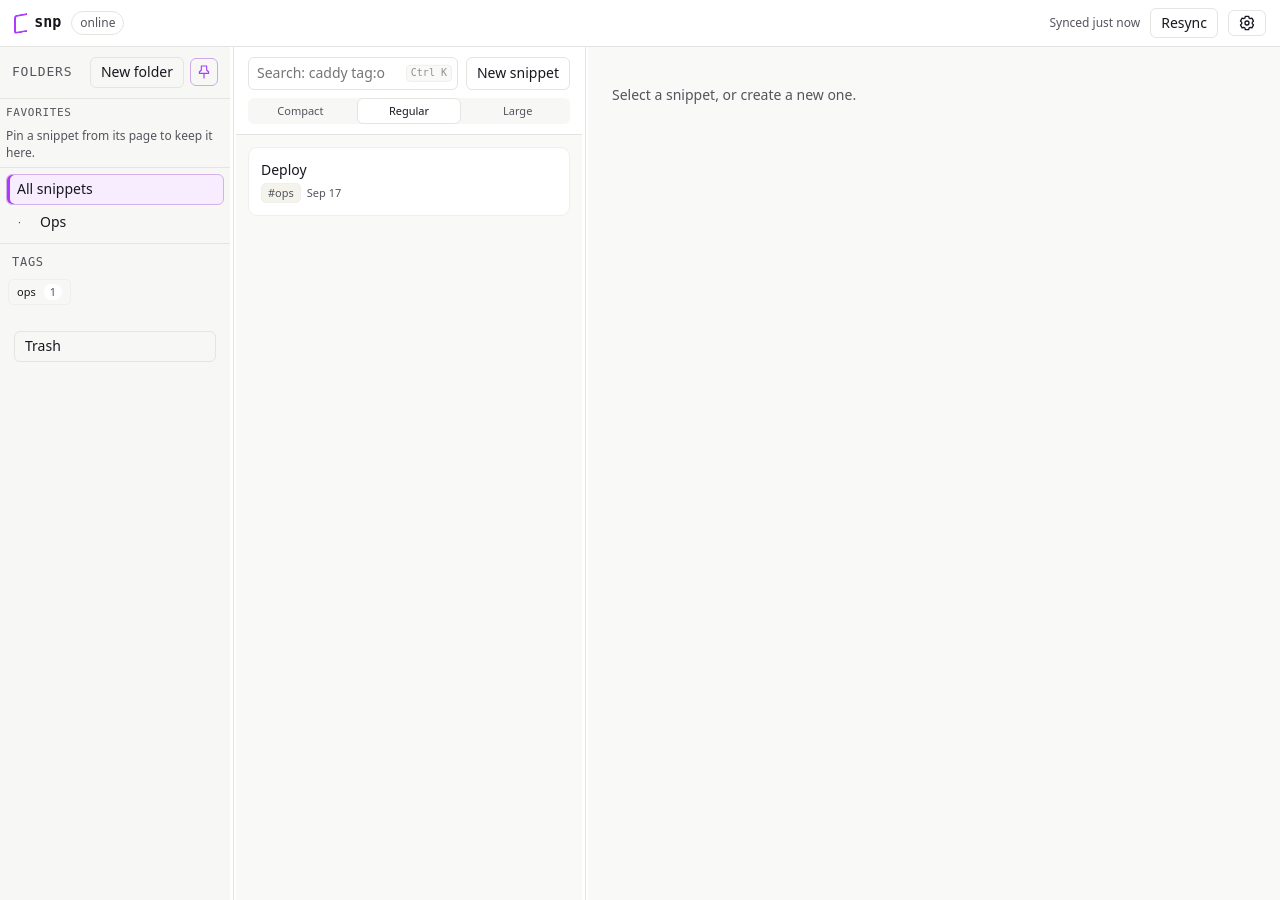
Test: folder assignments › preserves null when editing with a folder filter and shows the saved unfiled result
Click the text "Deploy": (284, 170) [261,160,307,180]
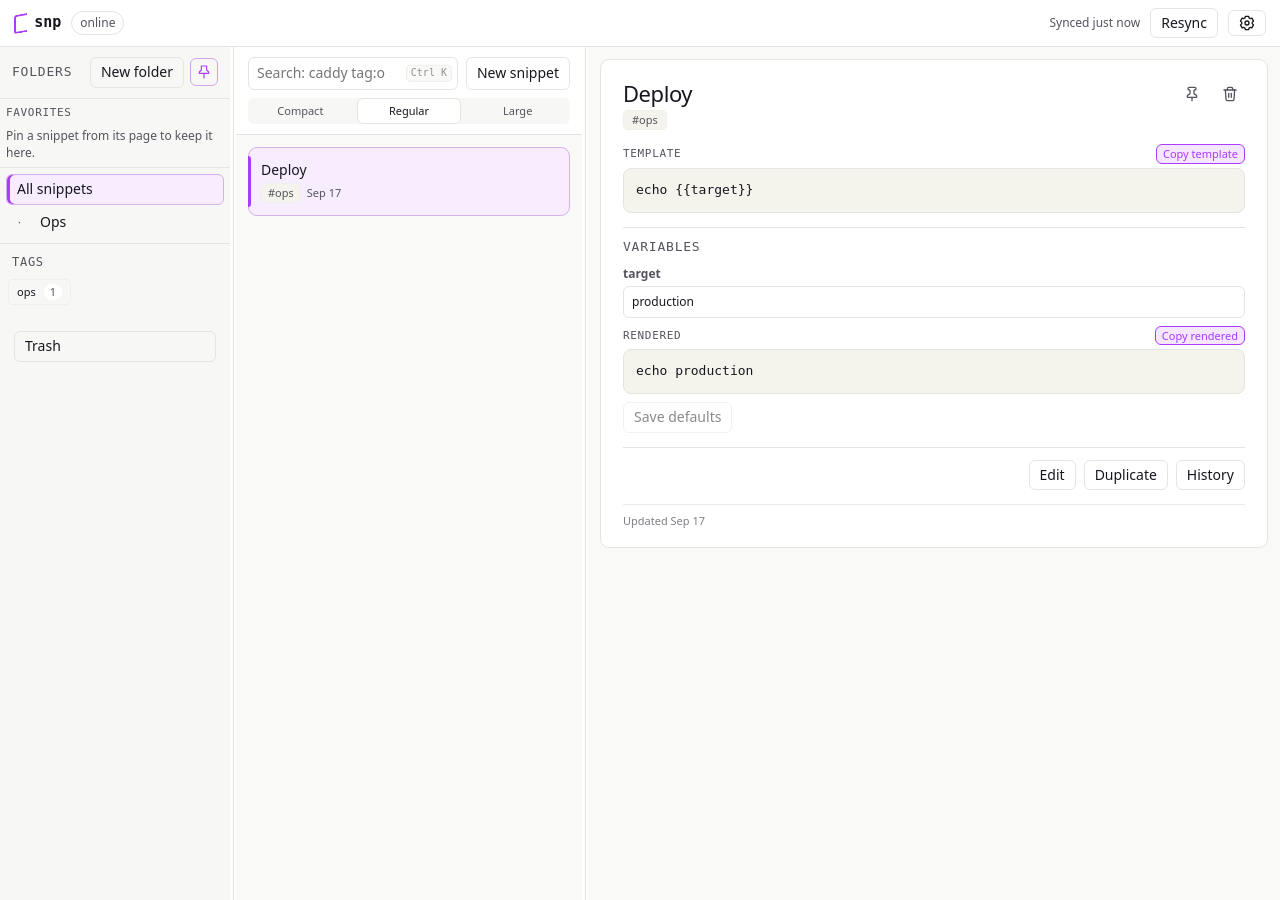
Click the button "Ops": (126, 222) [29,207,224,237]
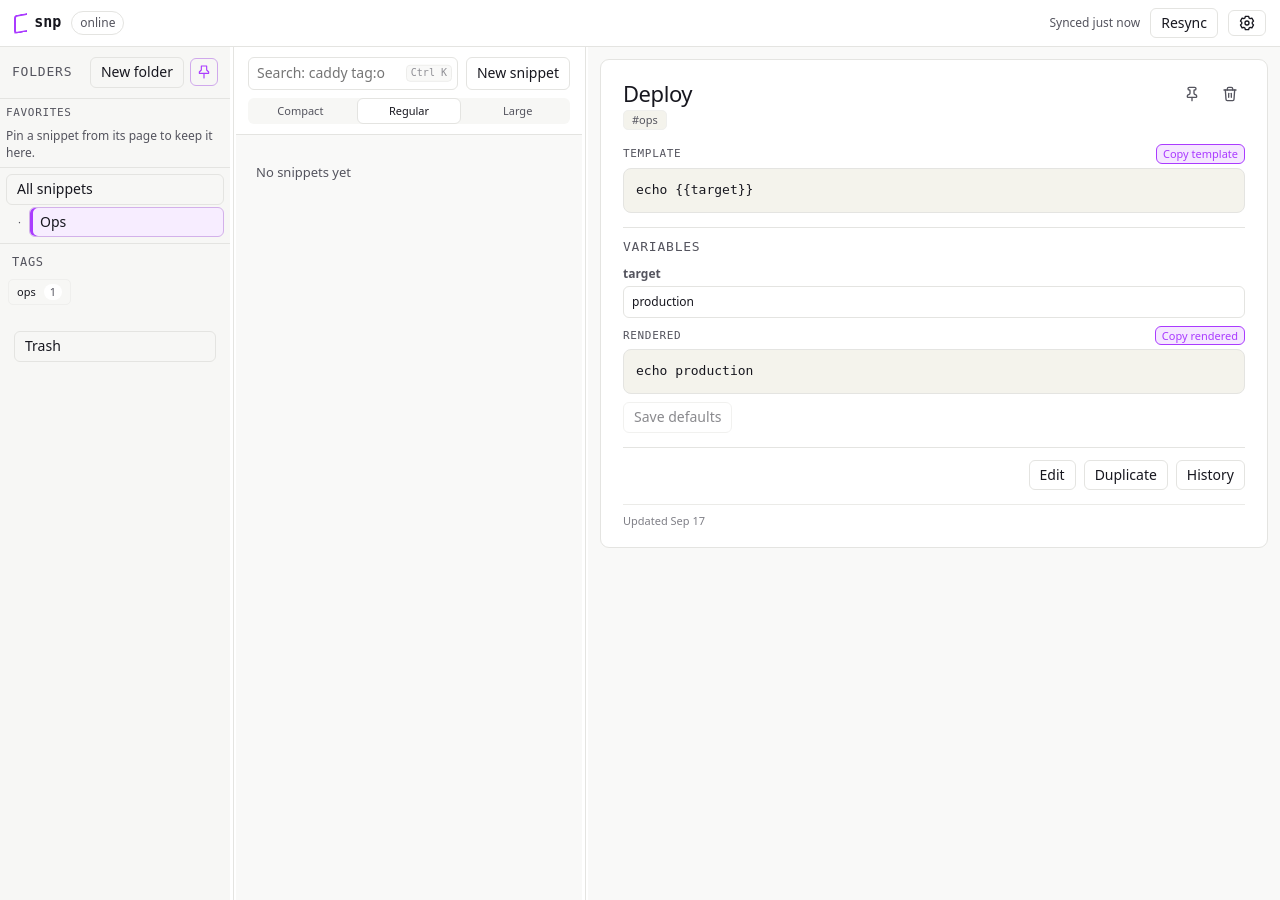
Click the button "Edit": (1052, 475) [1029,460,1076,490]
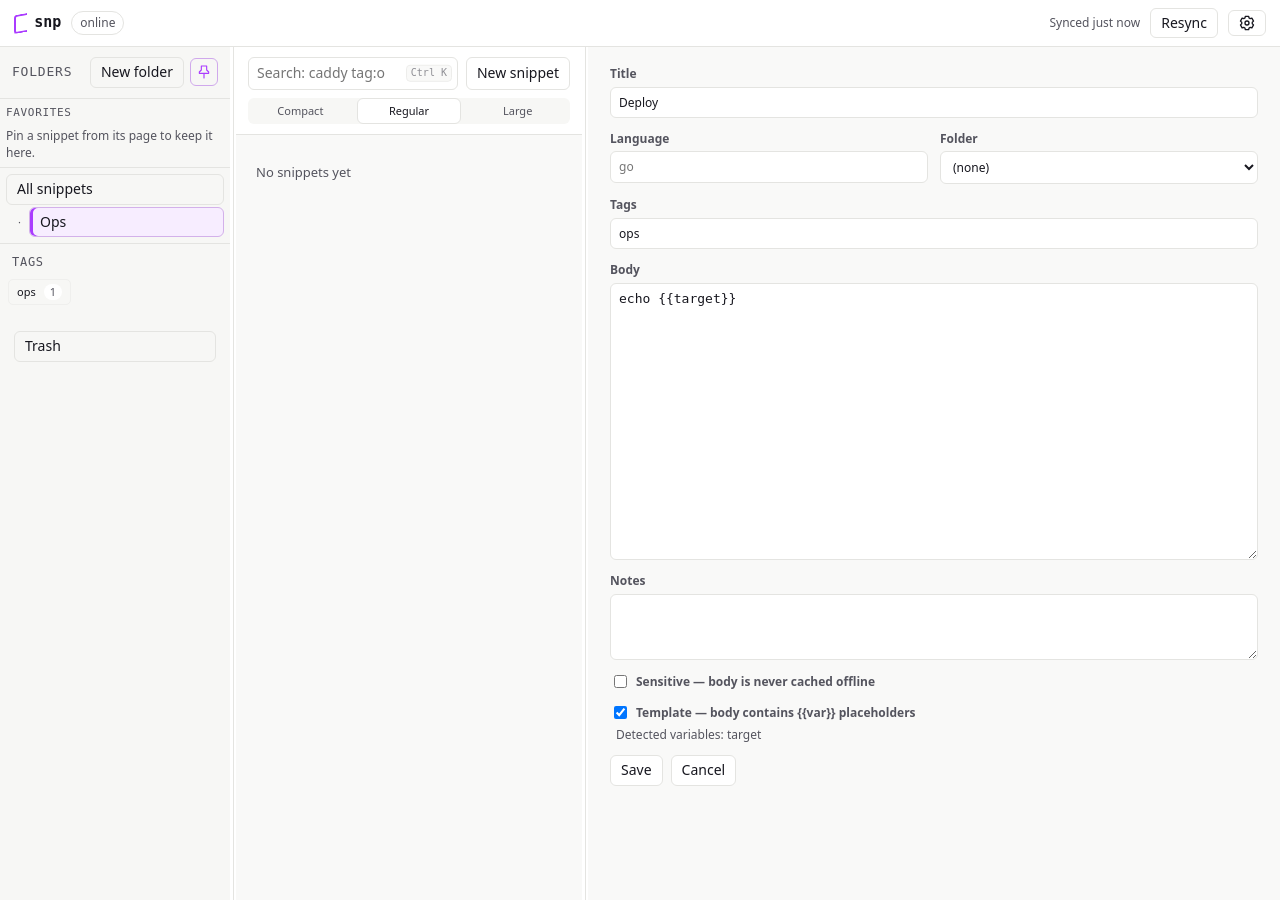
Check: the text box labelled "Body" is shown, box [610,283,1258,560]
Check: the dropdown labelled "Folder" shows "(none)", box [940,152,1258,184]
Click the button "Save": (636, 771) [610,755,663,786]
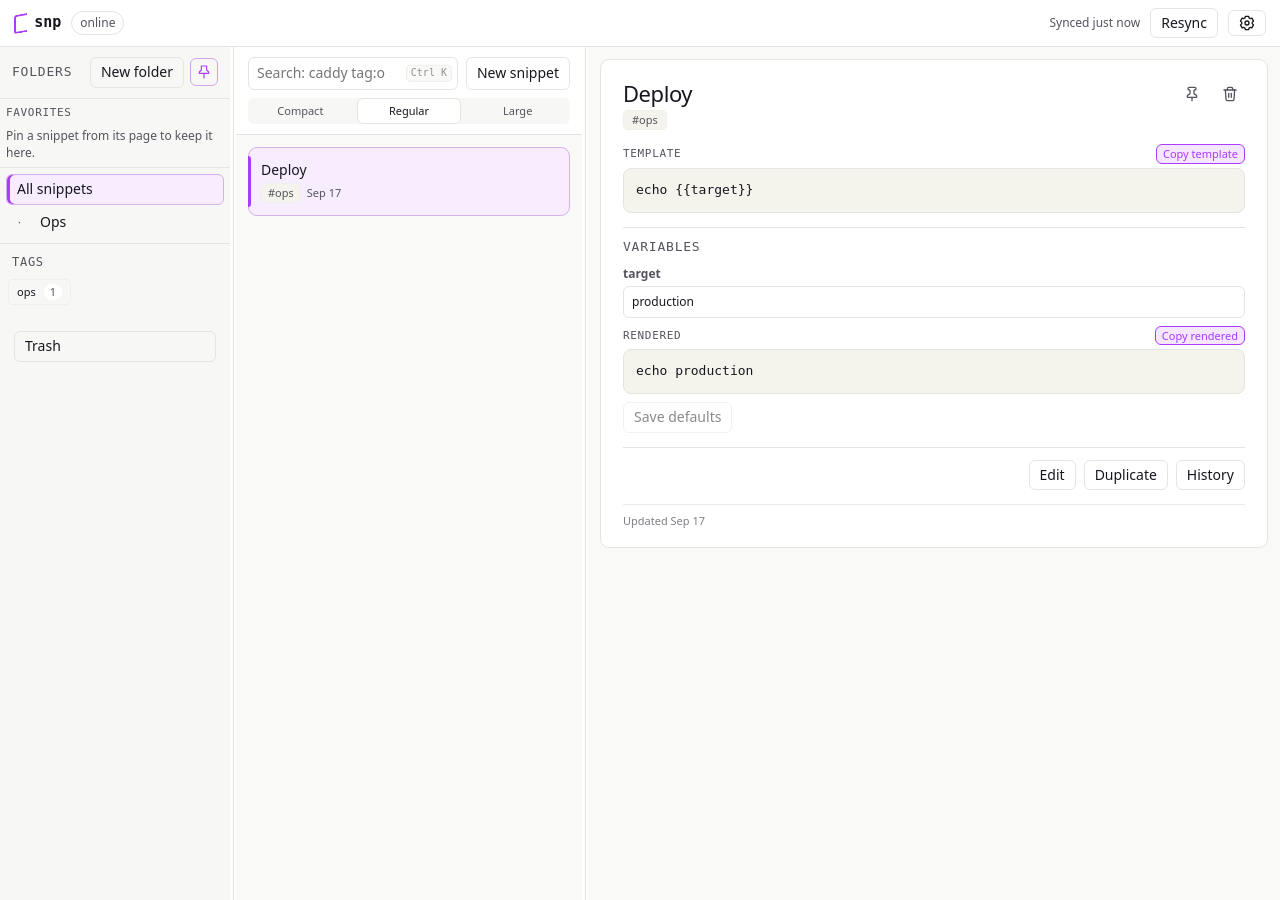
Check: the button "Deploy #ops Sep 17" is shown, box [248,146,570,216]
